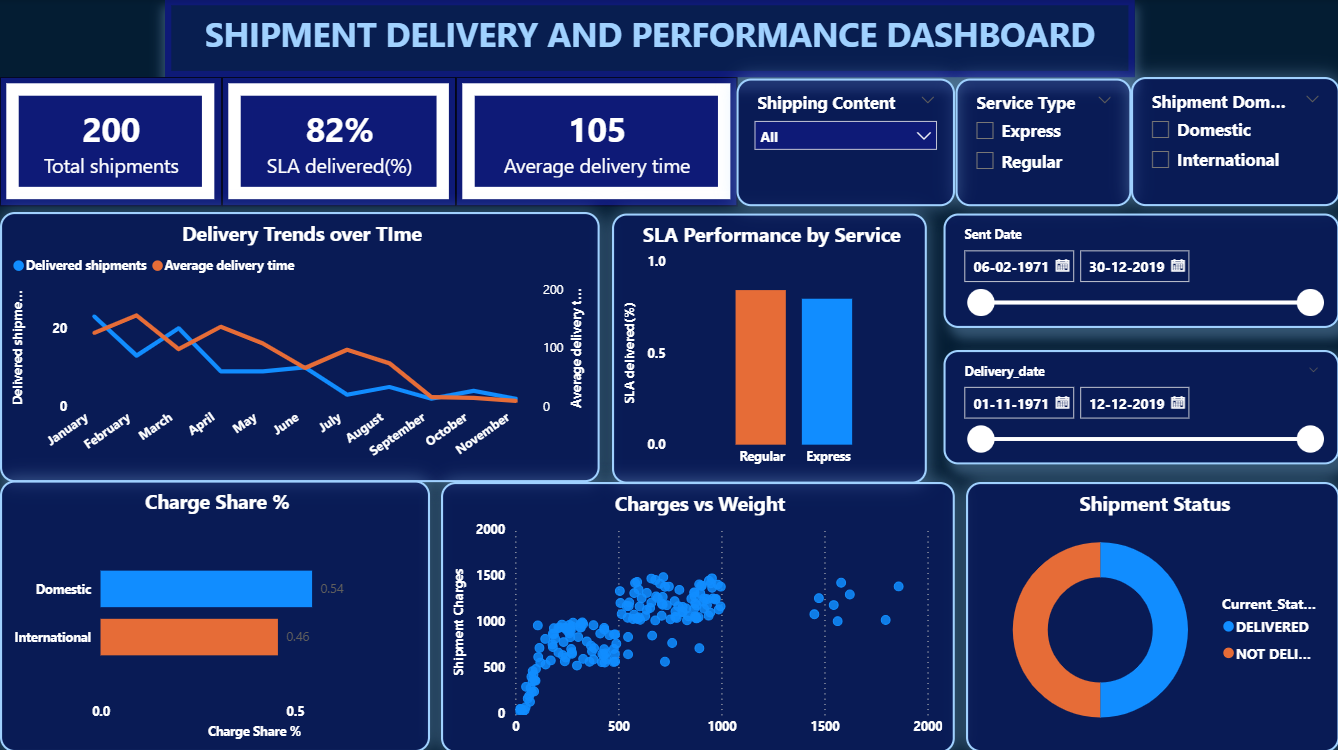

This screenshot's page, from the dashboard's own definition file:
{"tool":"powerbi","page":{"name":"Page 1","canvas":[1280,720],"ordinal":0},"visuals":[{"type":"textbox","box":[157.7,0,926,74.7],"z":0},{"type":"cardVisual","fields":{"Data":["shipment_details.Total shipments"]},"box":[0,74.5,212,123.2],"z":1000},{"type":"cardVisual","fields":{"Data":["status_sh.SLA_delivered(%)"]},"box":[212,74.5,223.5,123.2],"z":4000},{"type":"cardVisual","fields":{"Data":["status_sh.Average_delivery_time"]},"box":[435.2,74.1,268.6,123.5],"z":5000},{"type":"lineChart","title":"Delivery Trends over TIme ","fields":{"Category":["status_sh.Sent_date.Variation.Date Hierarchy.Month"],"Y":["status_sh.Delivered shipments"],"Y2":["status_sh.Average delivery time"]},"box":[0,203.7,572.6,257.8],"z":6000},{"type":"clusteredColumnChart","title":"SLA Performance by Service","fields":{"Category":["shipment_details.Service_Type"],"Y":["status_sh.SLA delivered(%)"]},"box":[585,205.3,301,257.8],"z":7000},{"type":"donutChart","title":"Shipment Status ","fields":{"Category":["status_sh.Current_Status"],"Y":["CountNonNull(shipment_details.Shipment_ID)"]},"box":[923,461.5,356.5,257.8],"z":8000},{"type":"clusteredBarChart","title":"Charge Share %","fields":{"Category":["shipment_details.Shipment_Domain"],"Y":["shipment_details.Charge Share %"]},"box":[0,459.9,410.5,259.3],"z":8001},{"type":"scatterChart","title":"Charges vs Weight","fields":{"X":["Sum(shipment_details.Shipment_Weight)"],"Y":["shipment_details.Shipment Charges"]},"box":[421.4,461.4,490.6,258.4],"z":8002},{"type":"slicer","title":"Delivery Trends over TIme ","fields":{"Values":["shipment_details.Service_Type"]},"box":[912.2,75.6,168.2,121.9],"z":8003},{"type":"slicer","title":"Delivery Trends over TIme ","fields":{"Values":["shipment_details.Shipment_Domain"]},"box":[1080.4,74.1,199.1,123.5],"z":8004},{"type":"slicer","title":"Sent Date","fields":{"Values":["status_sh.Sent_date"]},"box":[901.4,205.3,378.1,109.6],"z":8006},{"type":"slicer","fields":{"Values":["status_sh.Delivery_date"]},"box":[901.4,334.9,378.1,109.6],"z":8007},{"type":"slicer","title":"Delivery Trends over TIme ","fields":{"Values":["shipment_details.Shipping_Content"]},"box":[703.8,75.6,208.4,121.9],"z":8008}]}

Visuals, with their boxes in screenshot pixels (x1, y1, x2, y2), scaled from the page's 1280x720 canvas onto the 1338x750 screenshot:
textbox: crop(165, 0, 1133, 78)
cardVisual - shipment_details.Total shipments: crop(0, 78, 222, 206)
cardVisual - status_sh.SLA_delivered(%): crop(222, 78, 455, 206)
cardVisual - status_sh.Average_delivery_time: crop(455, 77, 736, 206)
"Delivery Trends over TIme " lineChart: crop(0, 212, 599, 481)
"SLA Performance by Service" clusteredColumnChart: crop(612, 214, 926, 482)
"Shipment Status " donutChart: crop(965, 481, 1337, 749)
"Charge Share %" clusteredBarChart: crop(0, 479, 429, 749)
"Charges vs Weight" scatterChart: crop(440, 481, 953, 749)
"Delivery Trends over TIme " slicer: crop(954, 79, 1129, 206)
"Delivery Trends over TIme " slicer: crop(1129, 77, 1337, 206)
"Sent Date" slicer: crop(942, 214, 1337, 328)
slicer - status_sh.Delivery_date: crop(942, 349, 1337, 463)
"Delivery Trends over TIme " slicer: crop(736, 79, 954, 206)
